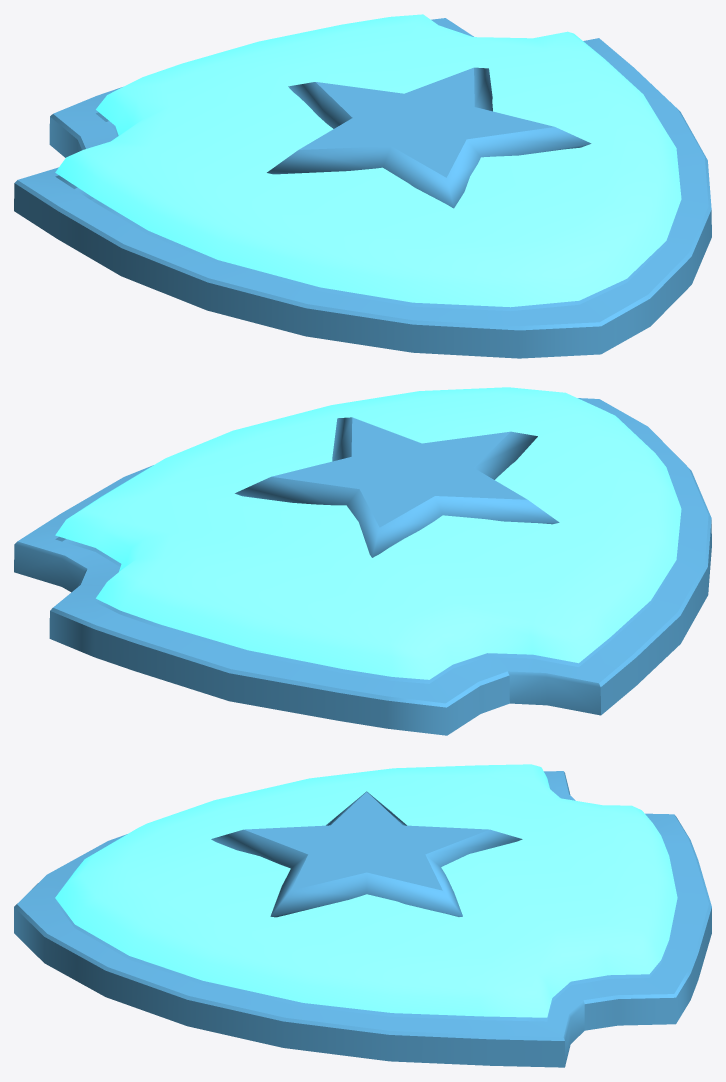
File: Shield.fbx
3 renders of one model, top to bottom at view 1: azimuth 30°, elevation 25°; view 2: azimuth 150°, elevation 25°; view 3: azimuth 270°, elevation 25°, orthographic. The views are drawn at different scales.
Visible parts, largest first — view 1: SheltdFront, Sheild, mesh_x_coin_1_new002; view 2: SheltdFront, Sheild, mesh_x_coin_1_new002; view 3: SheltdFront, Sheild, mesh_x_coin_1_new002.
Part boxes in pixels (x1,y1,x2,y2): SheltdFront: (55, 14, 681, 307); Sheild: (14, 18, 711, 358); mesh_x_coin_1_new002: (267, 67, 591, 208); SheltdFront: (55, 387, 681, 679); Sheild: (14, 398, 711, 735); mesh_x_coin_1_new002: (235, 417, 559, 557); SheltdFront: (55, 764, 677, 1017); Sheild: (14, 771, 711, 1067); mesh_x_coin_1_new002: (211, 791, 522, 917).
Size of the model in its own units: 8026 by 1239 by 8808.
